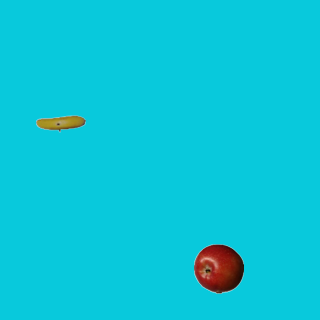Apple Braeburn: (193, 243, 243, 293)
Banana: (35, 98, 85, 148)
